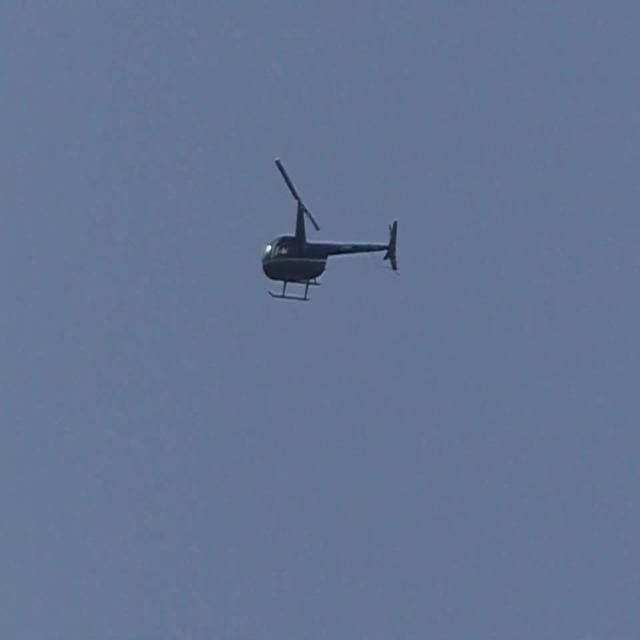CIV_HELO: (260, 196, 399, 304)
